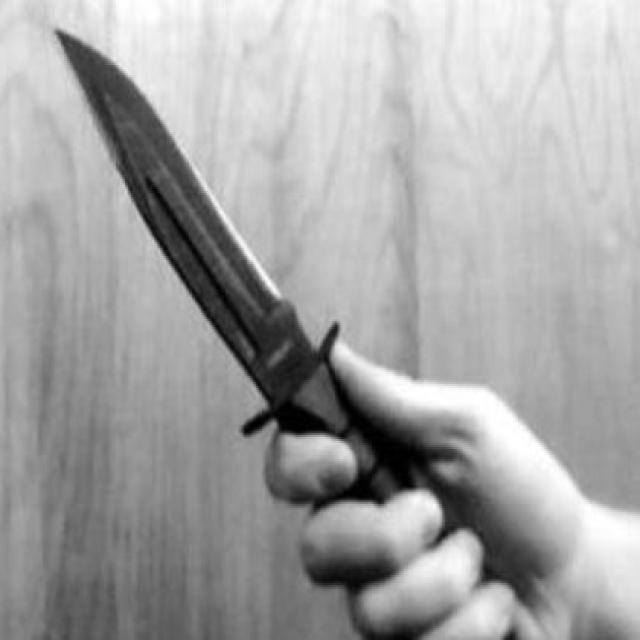knife: (53, 24, 398, 511)
